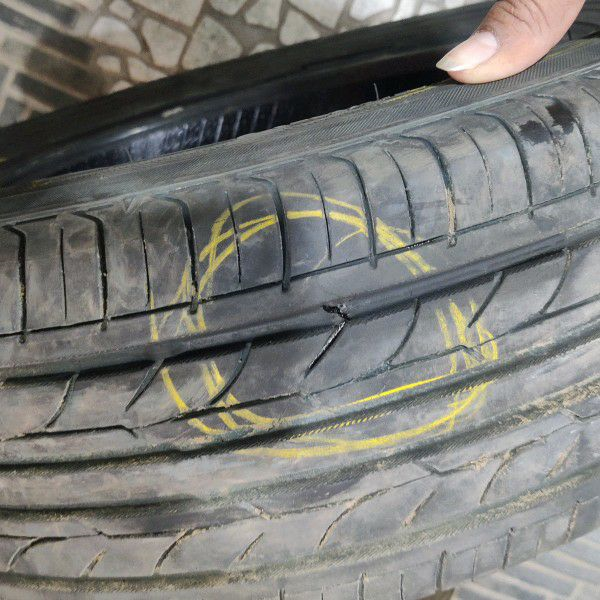tr: (319, 299, 358, 324)
